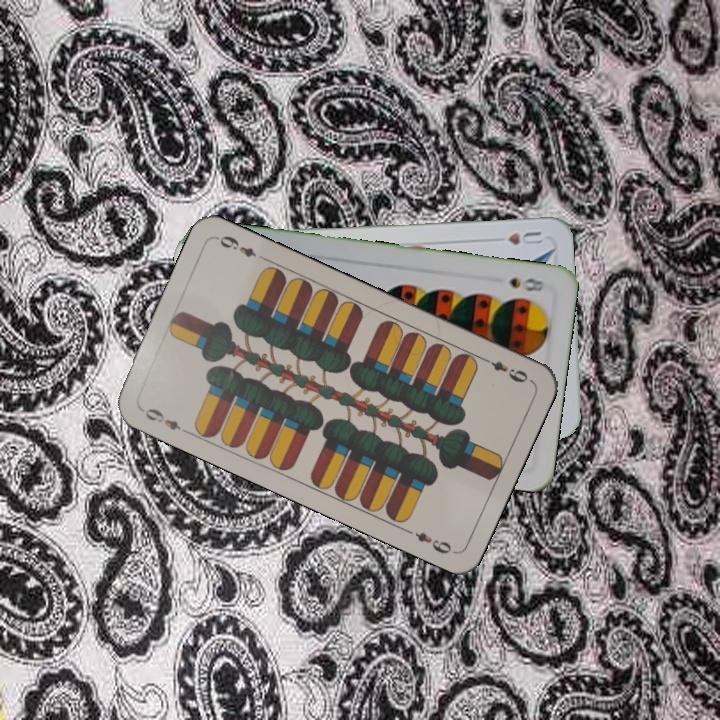E9: (136, 403, 192, 437), (478, 353, 534, 386)
HU: (504, 227, 545, 247)
S8: (505, 273, 547, 295)
